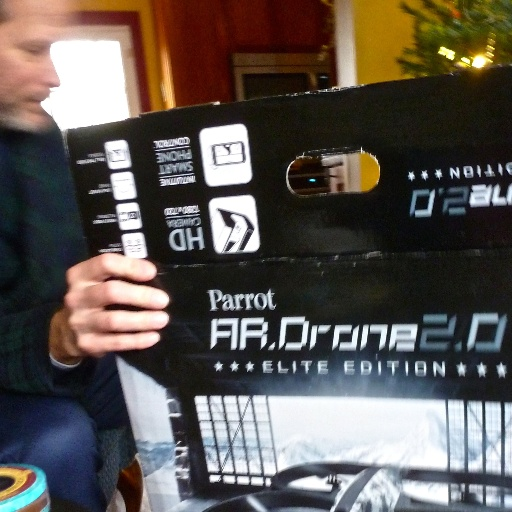hand: (57, 247, 174, 366)
